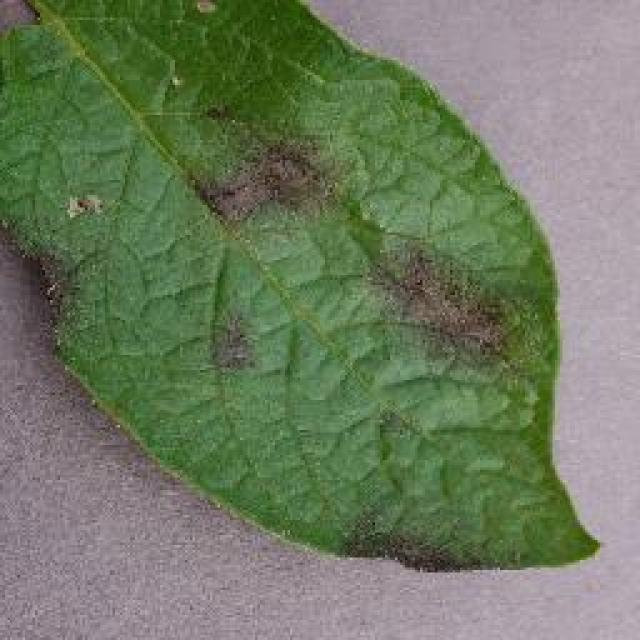Potato___Late_blight: (0, 2, 606, 576)
